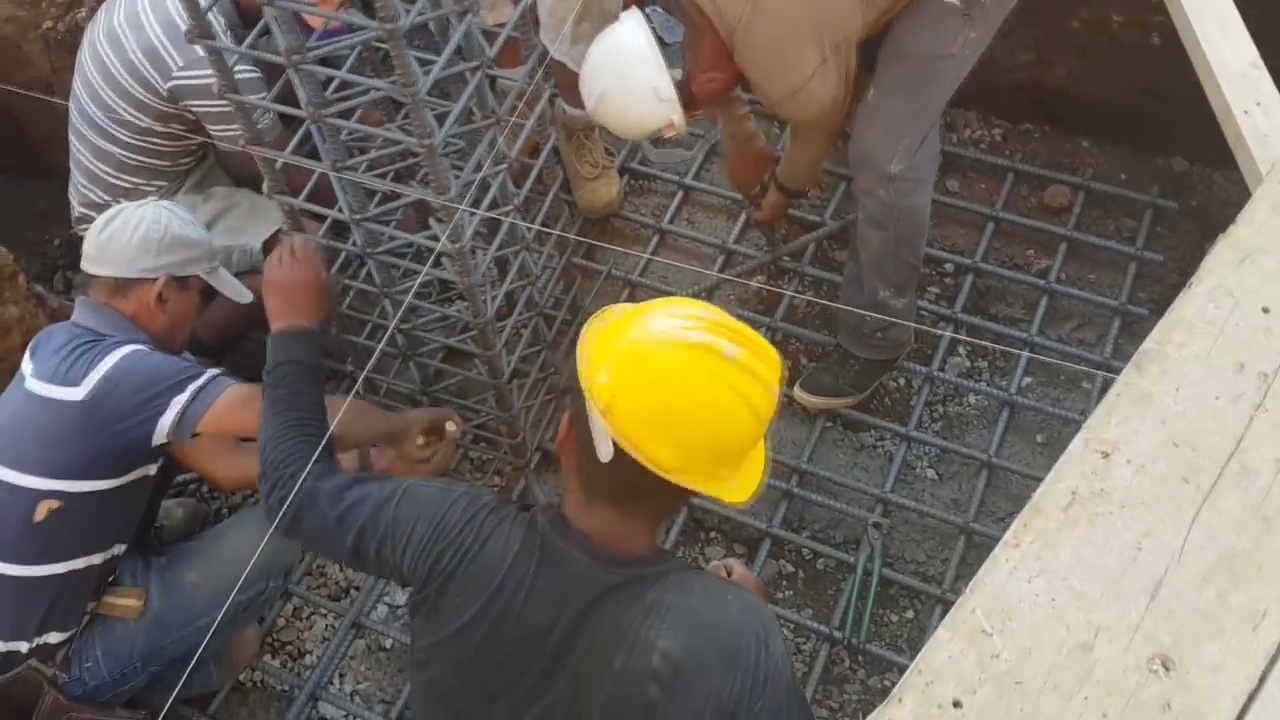helmet: (576, 295, 787, 514), (576, 7, 686, 143)
helmet-off: (79, 193, 256, 350)
helmet-on: (549, 293, 786, 568), (577, 3, 746, 145)
person: (259, 243, 812, 718), (0, 191, 462, 720), (780, 0, 999, 368), (67, 0, 294, 242), (574, 1, 756, 226), (475, 1, 626, 230)
